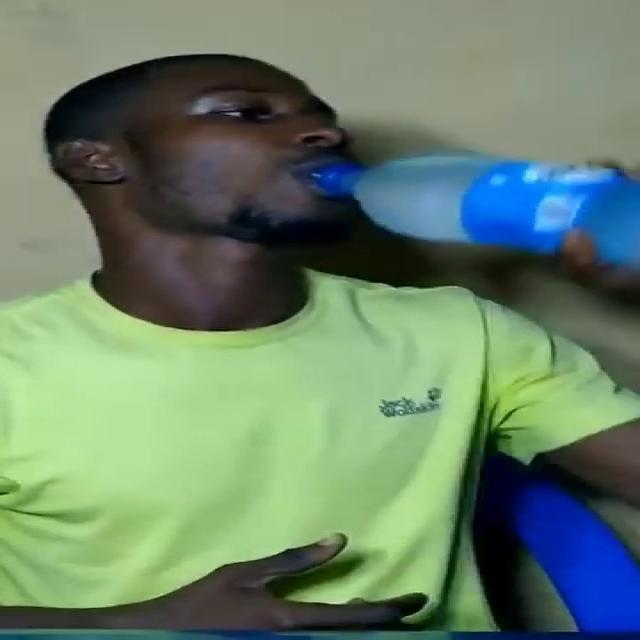Bottle: (325, 155, 640, 271)
Hand: (506, 150, 640, 299)
Mouth: (281, 154, 366, 198)
